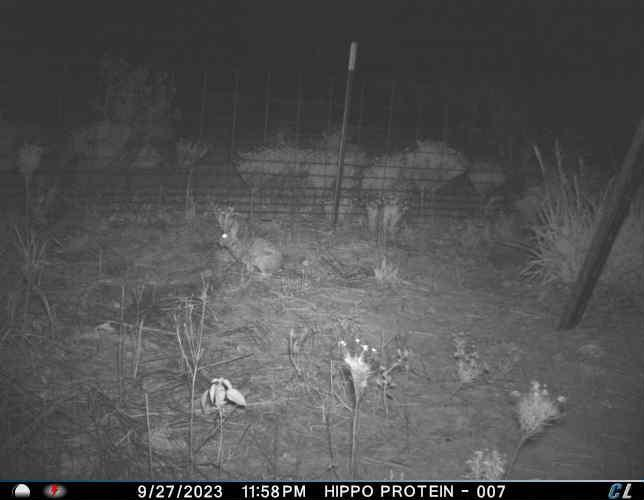Rabbit: (218, 219, 285, 278)
